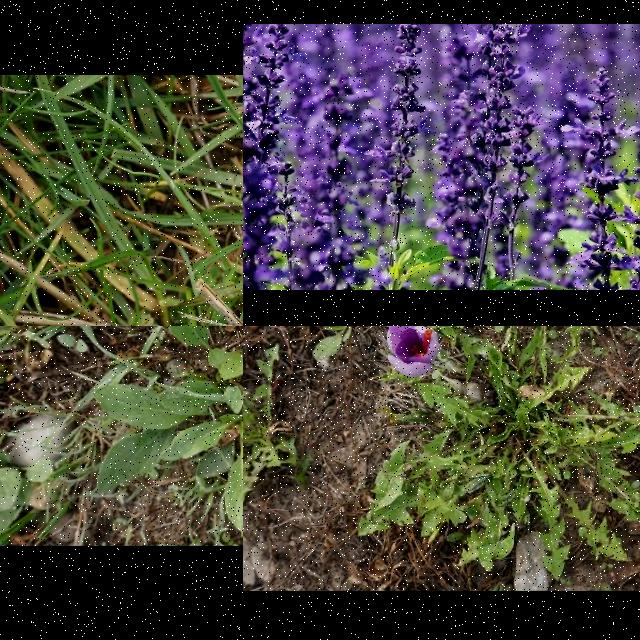flower: (386, 326, 439, 376)
